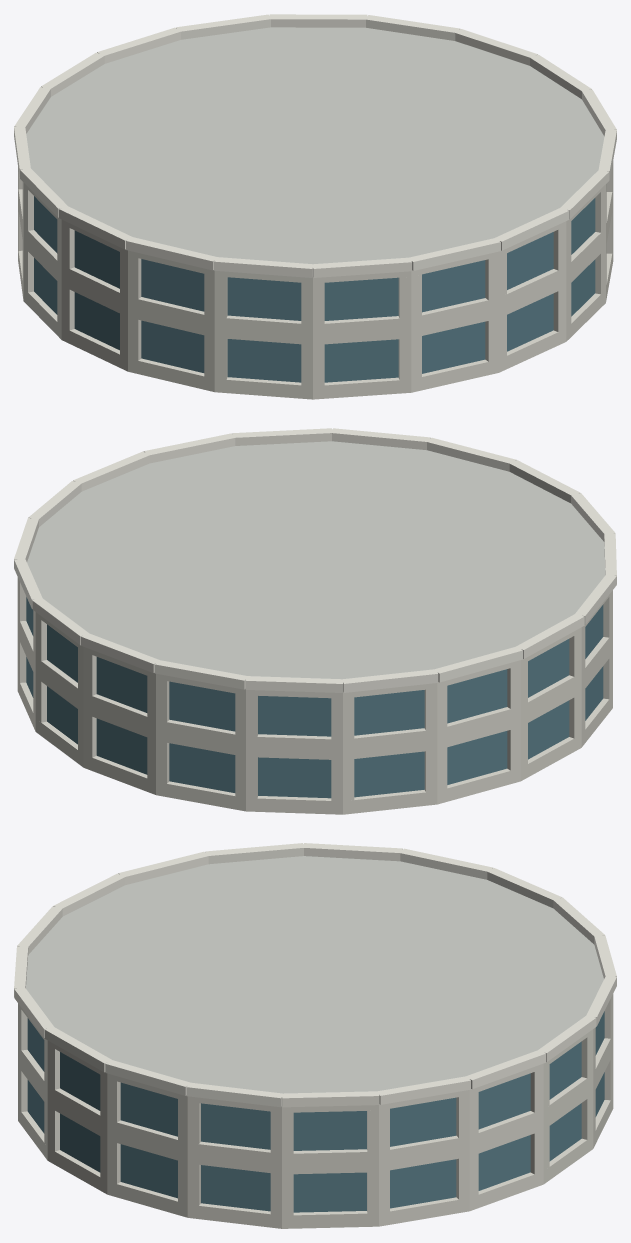
Rendered from sb_586637092.far.glb.
3 renders of one model, top to bottom at view 1: azimuth 30°, elevation 25°; view 2: azimuth 150°, elevation 25°; view 3: azimuth 270°, elevation 25°, orthographic.
Visible parts, largest first — view 1: roof, wall, glass, trim; view 2: roof, wall, glass, trim; view 3: roof, wall, glass, trim.
Boxes of the visible parts, box(x1,y1,x2,y2) form: roof: box(26, 27, 604, 264); wall: box(18, 161, 613, 399); glass: box(34, 196, 595, 382); trim: box(14, 14, 616, 277); roof: box(27, 441, 605, 679); wall: box(17, 577, 612, 814); glass: box(26, 597, 603, 798); trim: box(14, 428, 616, 692); roof: box(26, 856, 603, 1093); wall: box(18, 994, 613, 1228); glass: box(27, 1011, 604, 1212); trim: box(14, 843, 616, 1107).
Bounding box in the file's own units: 26.66 × 6.44 × 26.61.
